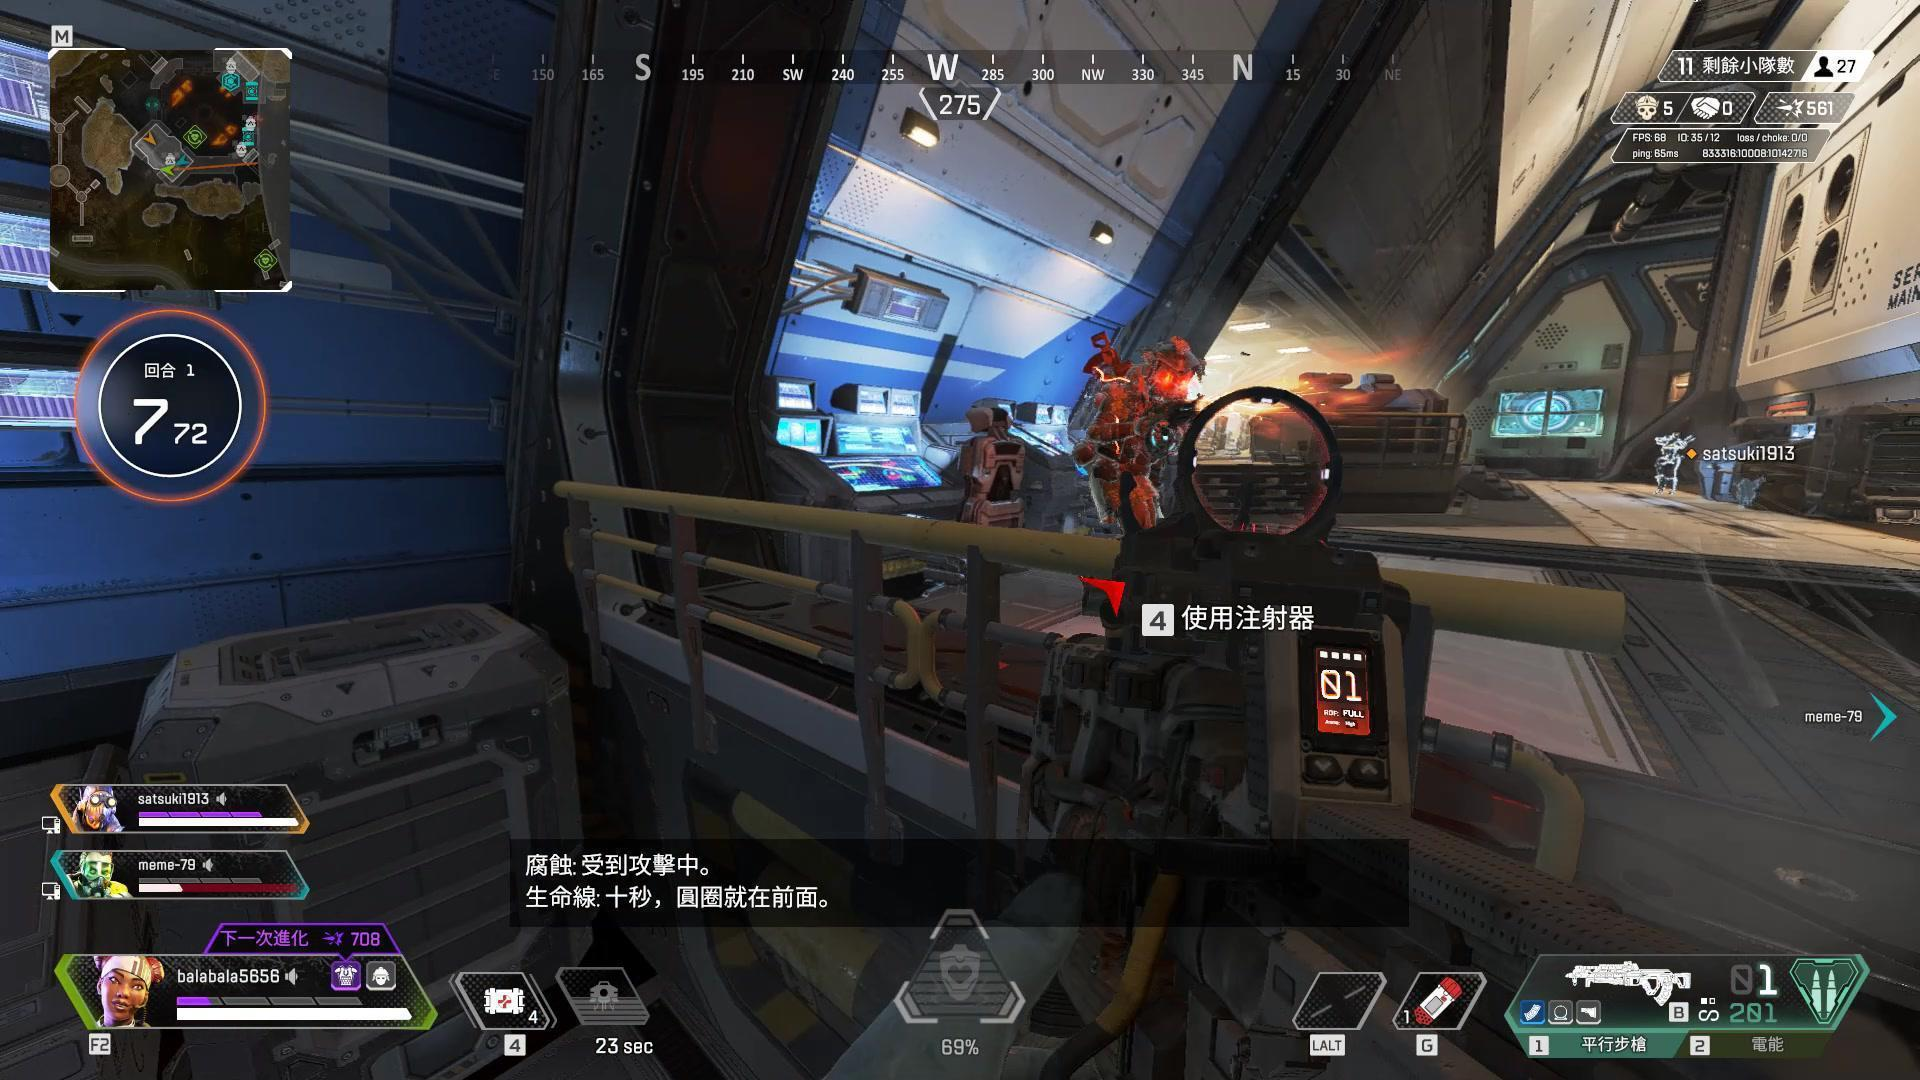avatar: (1065, 336, 1199, 534), (1653, 428, 1689, 495)
